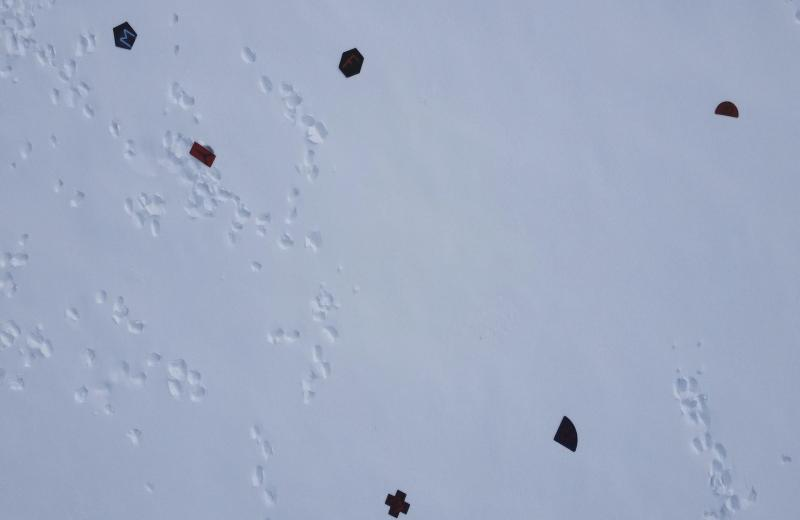Cross: (378, 487, 414, 520)
Hexagon: (336, 44, 366, 84)
Pentagon: (110, 20, 139, 55)
Quarter Circle: (552, 414, 580, 454)
Rectangle: (187, 140, 219, 168)
Semi Circle: (710, 96, 743, 122)
